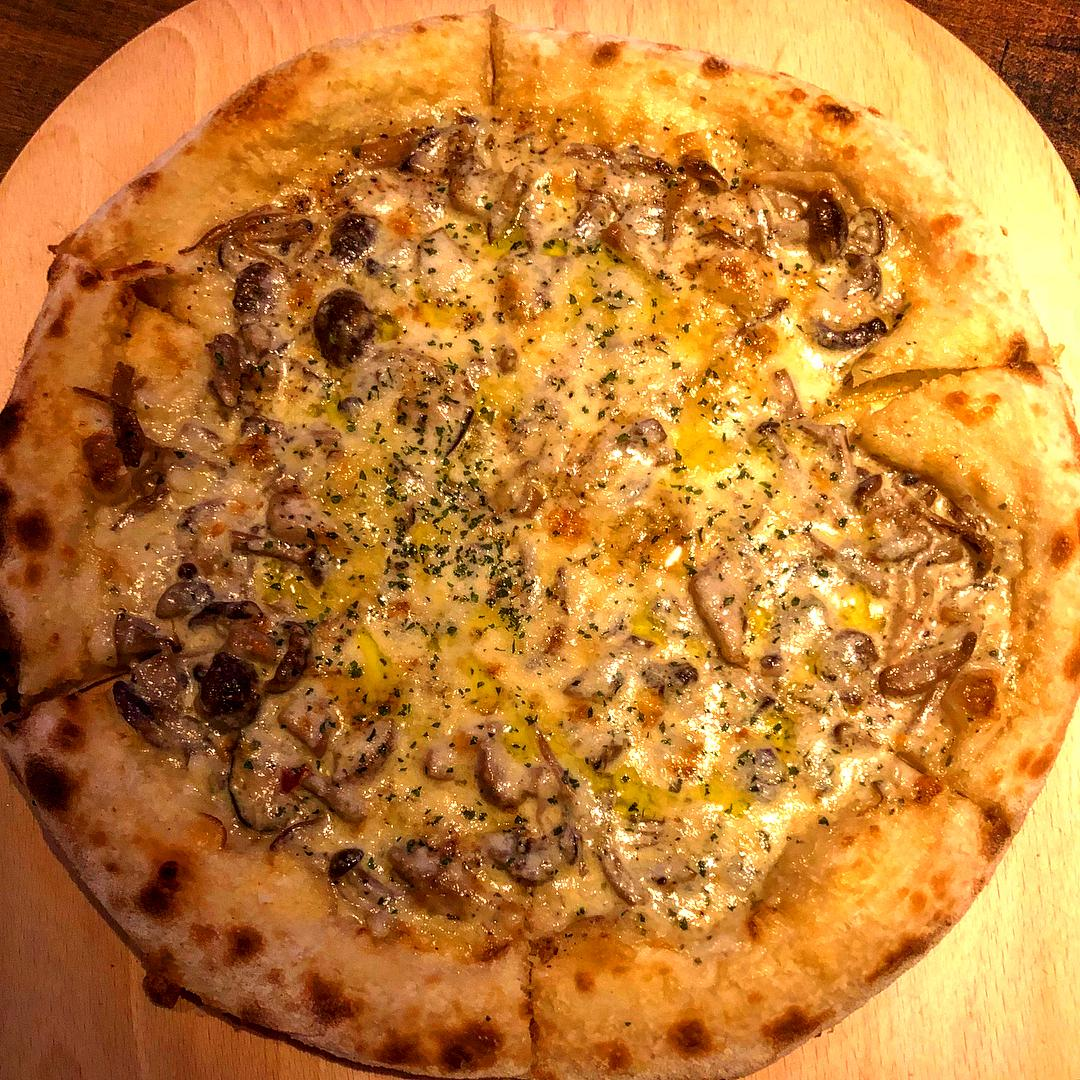Cheese: (585, 461, 809, 693), (321, 449, 574, 638), (477, 285, 713, 436), (643, 697, 813, 878)
Mushroom: (188, 241, 378, 436), (828, 474, 994, 692), (436, 720, 634, 901), (728, 171, 911, 363), (211, 664, 383, 840), (561, 178, 720, 292), (89, 371, 188, 514), (105, 575, 280, 652), (113, 659, 258, 746), (399, 125, 512, 220), (687, 553, 777, 672)
Pizza: (8, 14, 1080, 1076)
